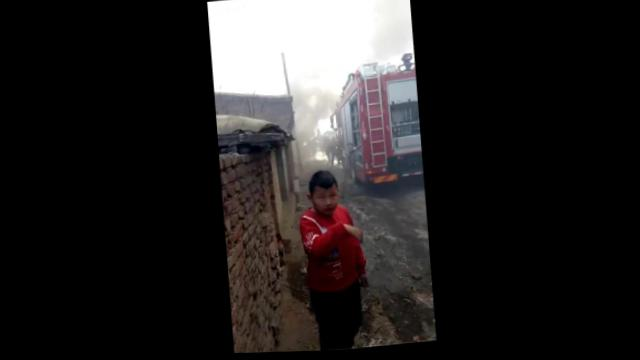smoke: (287, 77, 340, 169)
